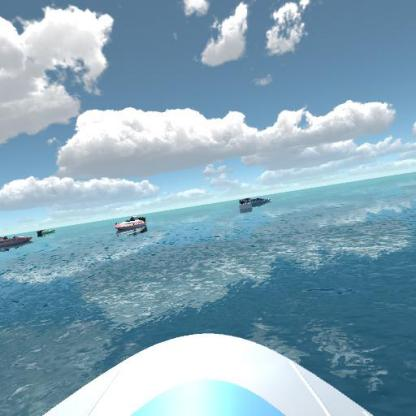usv0: (34, 228, 60, 236)
usv1: (238, 192, 275, 210)
usv3: (0, 226, 37, 255), (110, 214, 149, 236)
